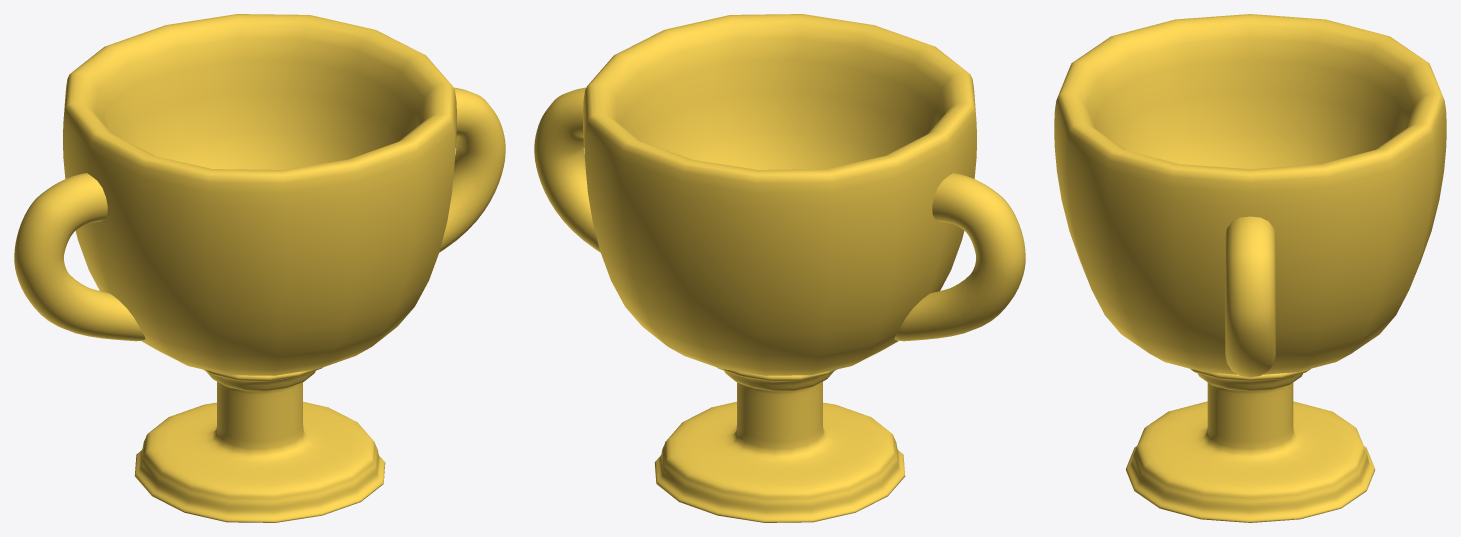
File: Award.glb
3 renders of one model, left to right at view 1: azimuth 30°, elevation 25°; view 2: azimuth 150°, elevation 25°; view 3: azimuth 270°, elevation 25°, orthographic.
Visible parts, largest first — view 1: Awards; view 2: Awards; view 3: Awards.
Part boxes in pixels (<box>): Awards: <box>14,14,505,522</box>; Awards: <box>534,14,1025,522</box>; Awards: <box>1054,14,1446,522</box>.
Bounding box in the file's own units: 4.18 × 3.14 × 2.93.
